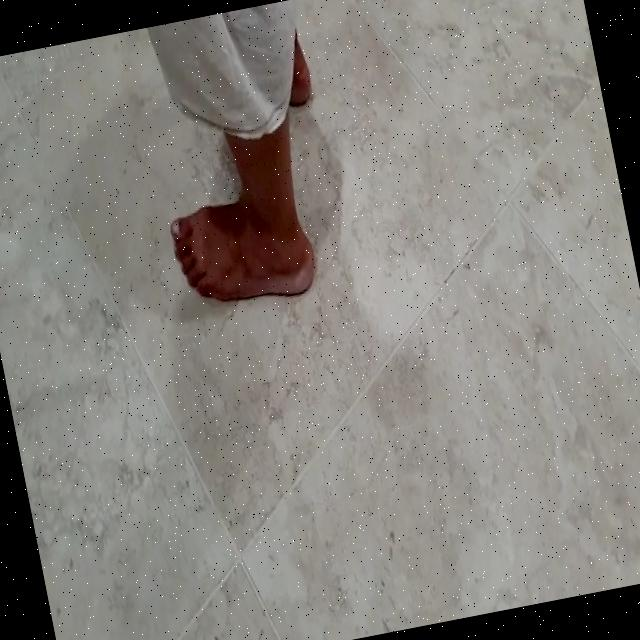no-boots: (166, 180, 327, 324)
